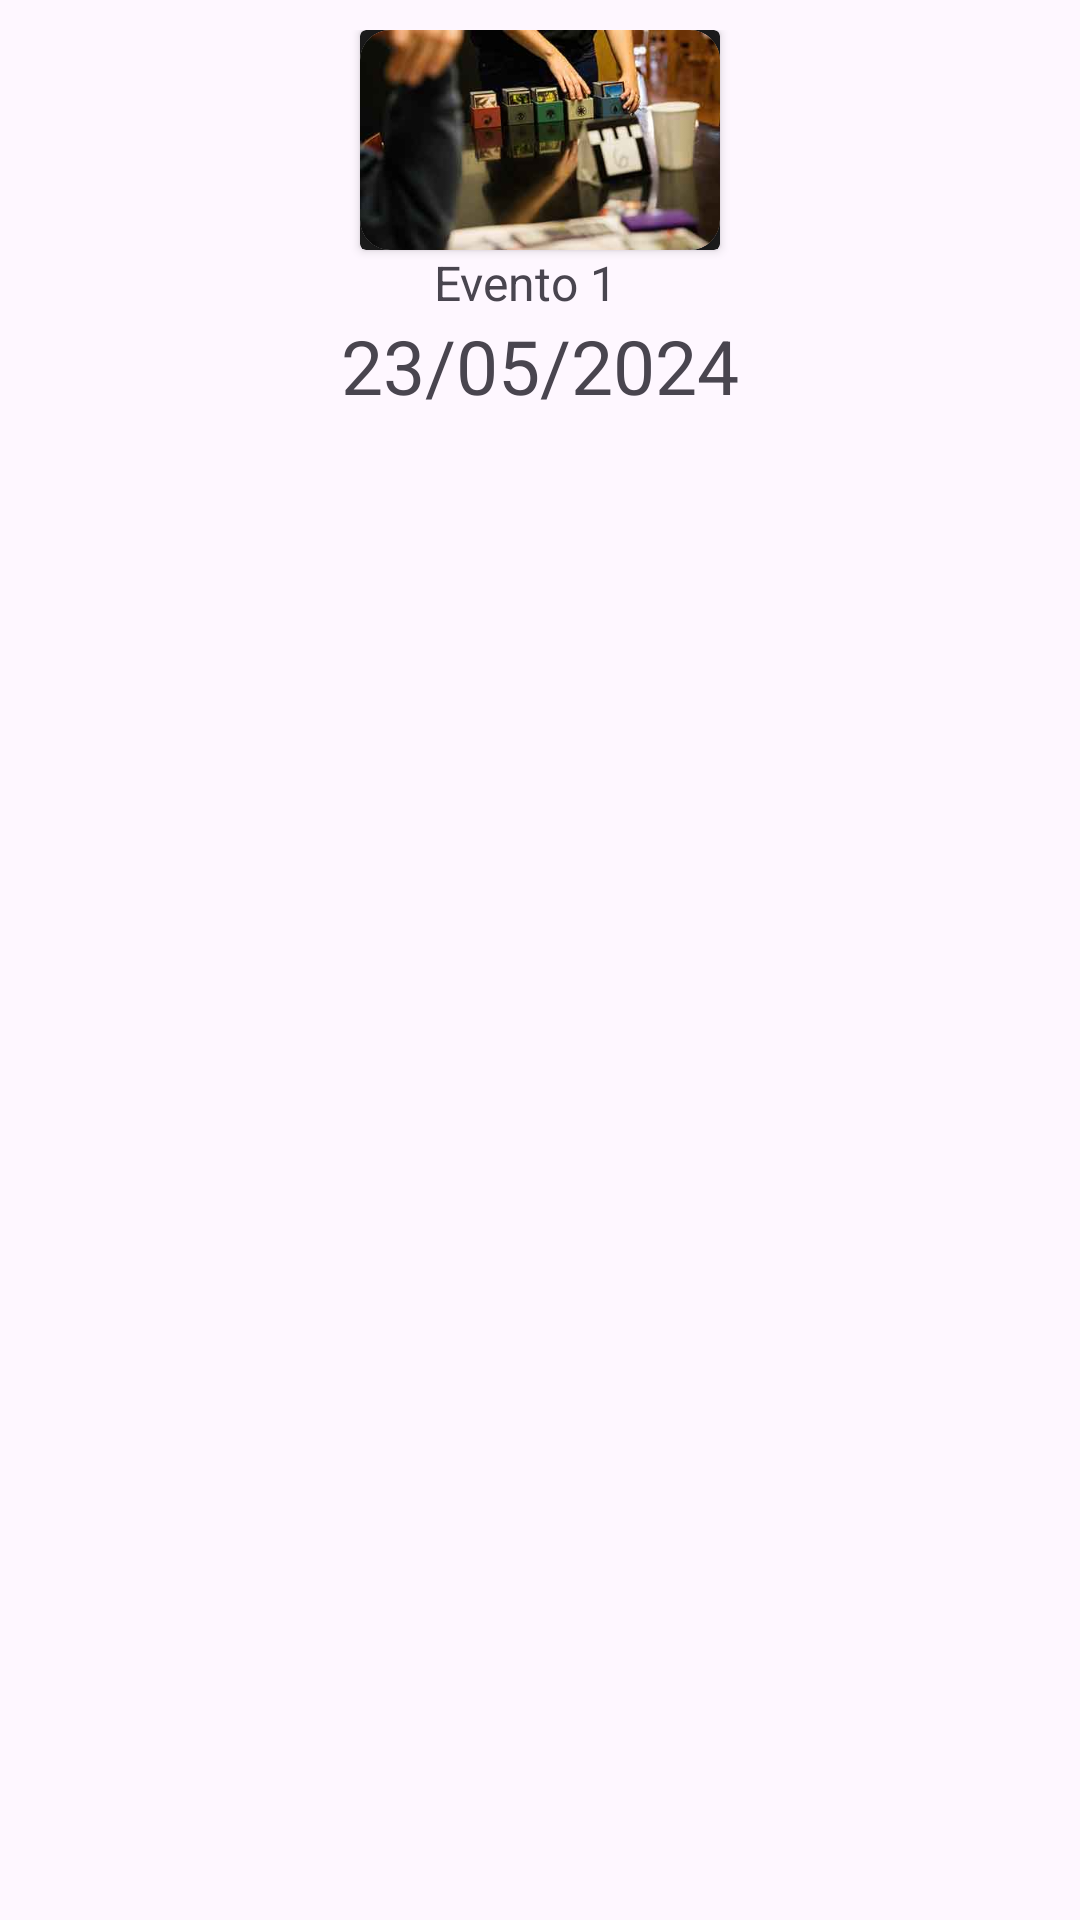

Locate icon controls on the screen. Image size 1080px×1920px, boxes as Rect(x1, y1, x2, y2).
evento ejemplo: Rect(360, 30, 720, 250)
